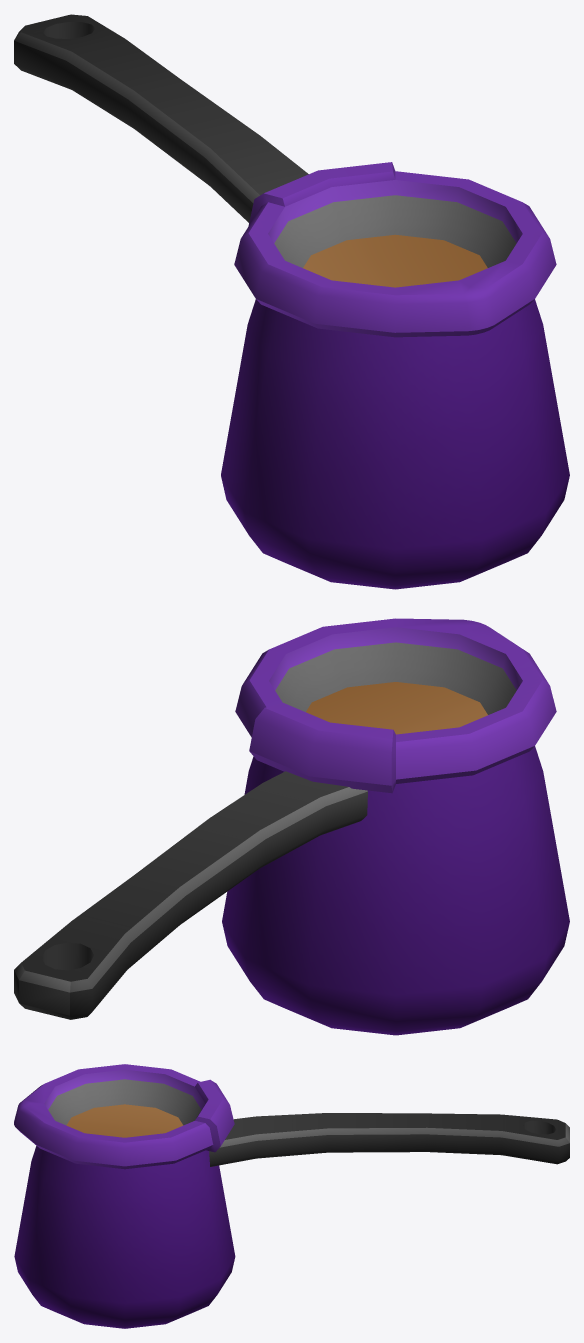
File: Cofe Pot_1.glb
The picture shows the model from 3 angles, top to bottom: view 1: azimuth 30°, elevation 25°; view 2: azimuth 150°, elevation 25°; view 3: azimuth 270°, elevation 25°; orthographic projection. The views are drawn at different scales.
Parts seen in each view (by area): view 1: Cofe Pot_1; view 2: Cofe Pot_1; view 3: Cofe Pot_1.
Boxes of the visible parts, <box> form: Cofe Pot_1: <box>14,14,569,589</box>; Cofe Pot_1: <box>14,618,569,1035</box>; Cofe Pot_1: <box>14,1064,569,1328</box>.
Bounding box in the file's own units: 0.1379 × 0.1363 × 0.3469.
1 material, 1 textured.
